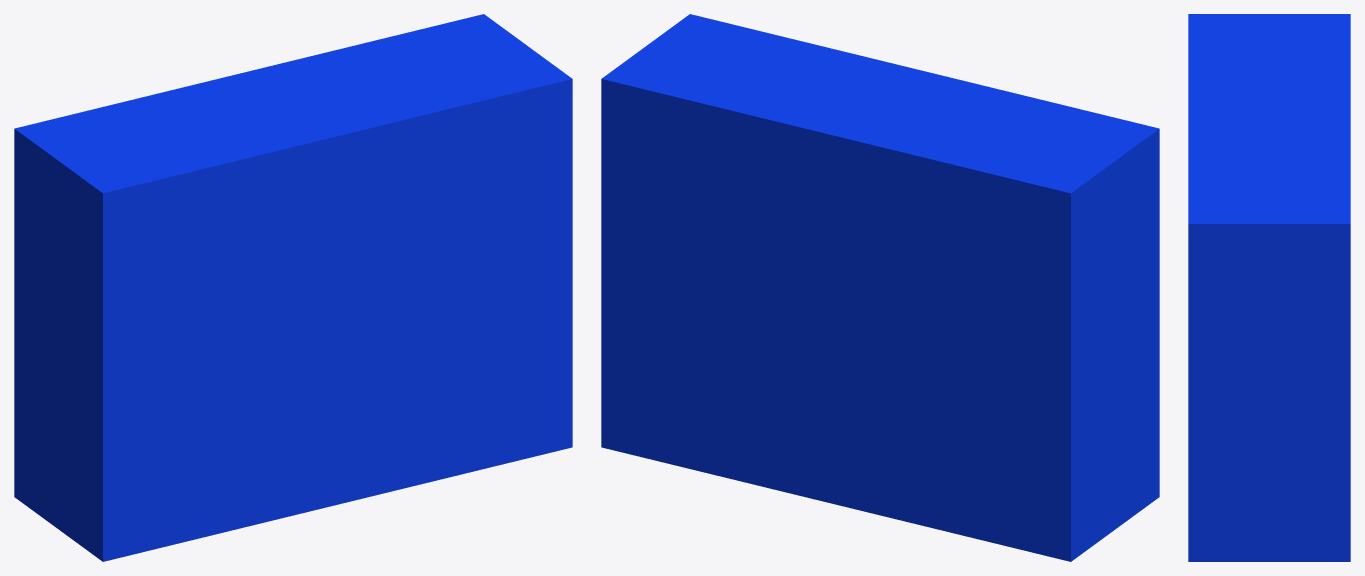
The model's file is parcelSPXMY0099.glb.
The picture shows the model from 3 angles, left to right: view 1: azimuth 30°, elevation 25°; view 2: azimuth 150°, elevation 25°; view 3: azimuth 270°, elevation 25°; orthographic projection. The views are drawn at different scales.
Parts seen in each view (by area): view 1: color; view 2: color; view 3: color.
Boxes of the visible parts, bbox=[...] form: color: bbox=[14, 14, 572, 561]; color: bbox=[601, 14, 1159, 561]; color: bbox=[1188, 14, 1350, 561].
Size of the model in its own units: 1.04 by 0.78 by 0.34.
